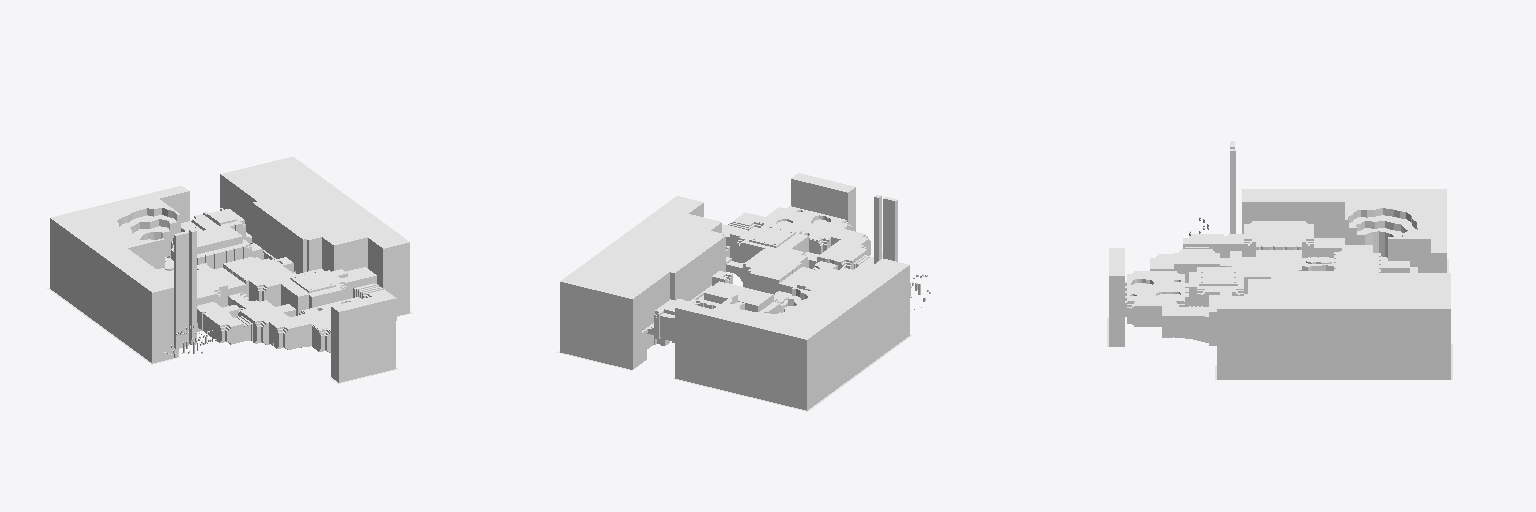
File: MAPM8_DiamondBlizzard.obj
The picture shows the model from 3 angles: view 1: azimuth 30°, elevation 25°; view 2: azimuth 150°, elevation 25°; view 3: azimuth 270°, elevation 25°; orthographic projection.
Parts seen in each view (by area): view 1: MAPM8; view 2: MAPM8; view 3: MAPM8.
Part boxes in pixels (bbox=[...]): MAPM8: bbox=[47, 157, 412, 383]; MAPM8: bbox=[557, 173, 930, 411]; MAPM8: bbox=[1107, 141, 1452, 379].
Bounding box in the file's own units: 9408 × 4608 × 11328.